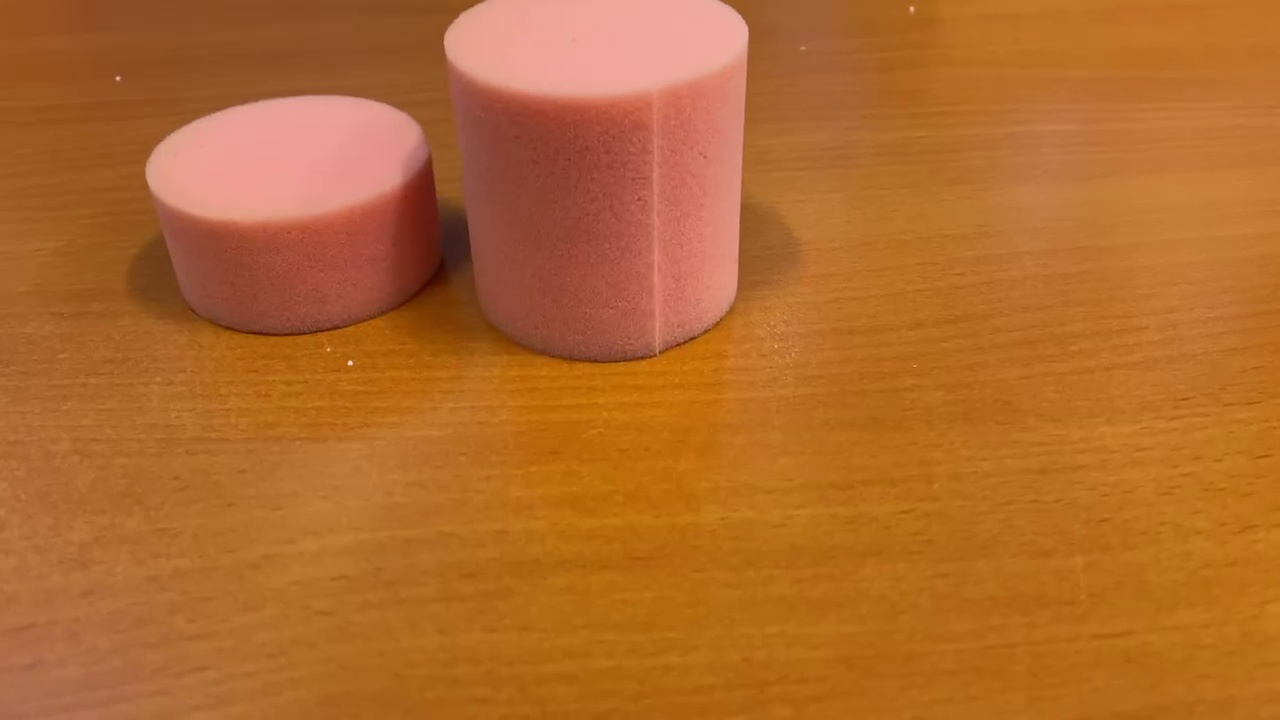Clyinder_short: (137, 89, 456, 350)
Cylinder: (438, 1, 748, 367)
